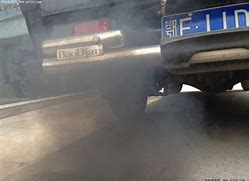smoke: (56, 37, 184, 167)
